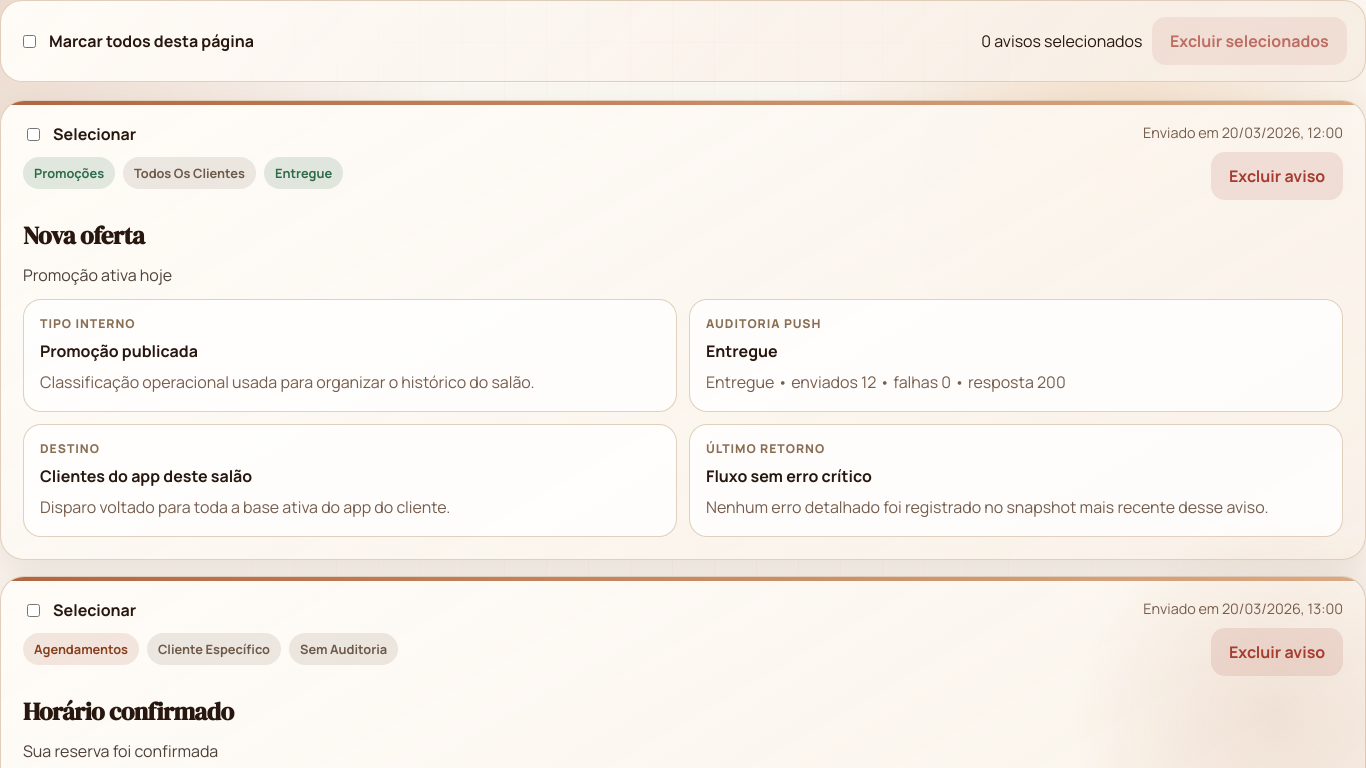
notifications list UI › allows selecting all items on the page and updates the bulk action state
Expected: the button "Excluir selecionados" is disabled, [1152,17,1347,65]
Expected: the text "0 avisos selecionados" is shown, [981,30,1142,52]
Click the checkbox labelled "Marcar todos desta página" at (30, 41), box [23,34,36,48]
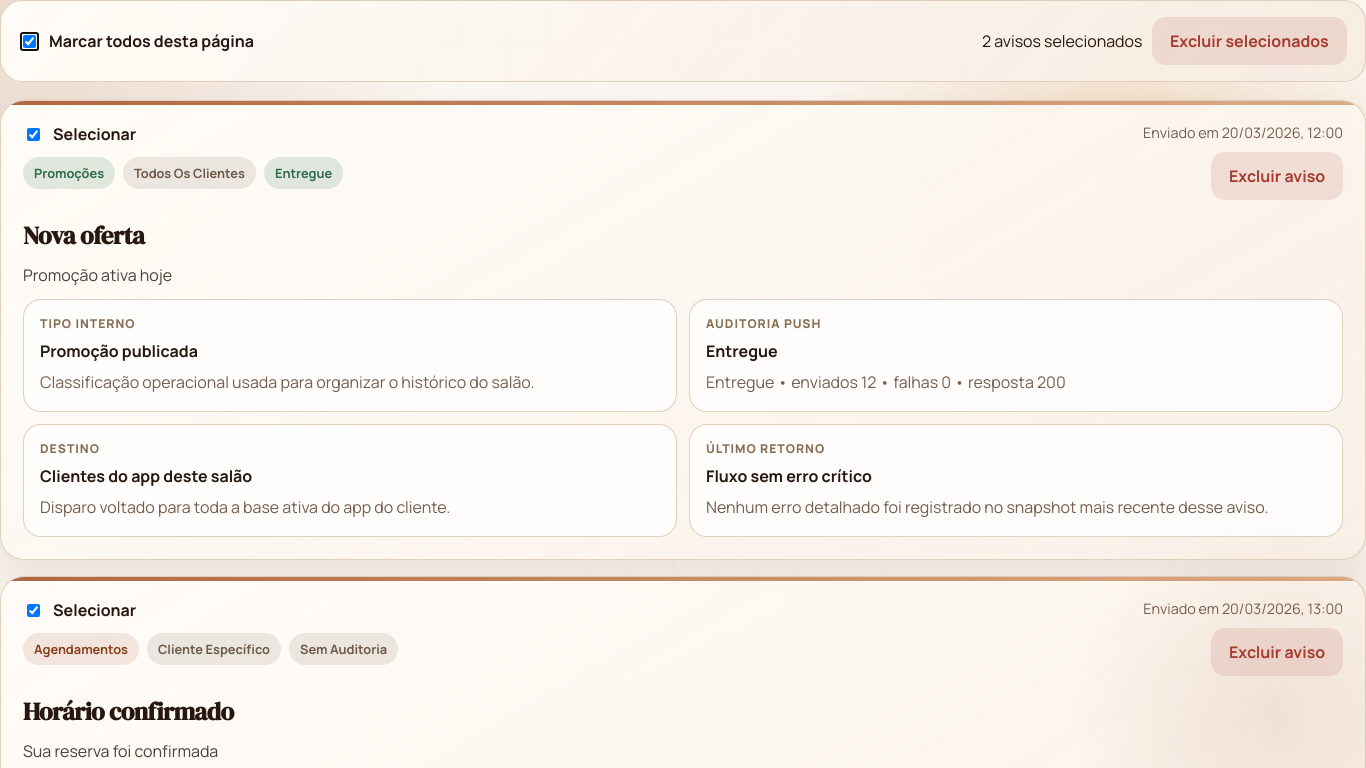
Expected: the button "Excluir selecionados" is enabled, [1152,17,1347,65]
Expected: the text "2 avisos selecionados" is shown, [982,30,1142,52]
Click the checkbox labelled "Selecionar" in the row of "20/03/2026, 12:00" at (34, 134), box [27,128,40,140]
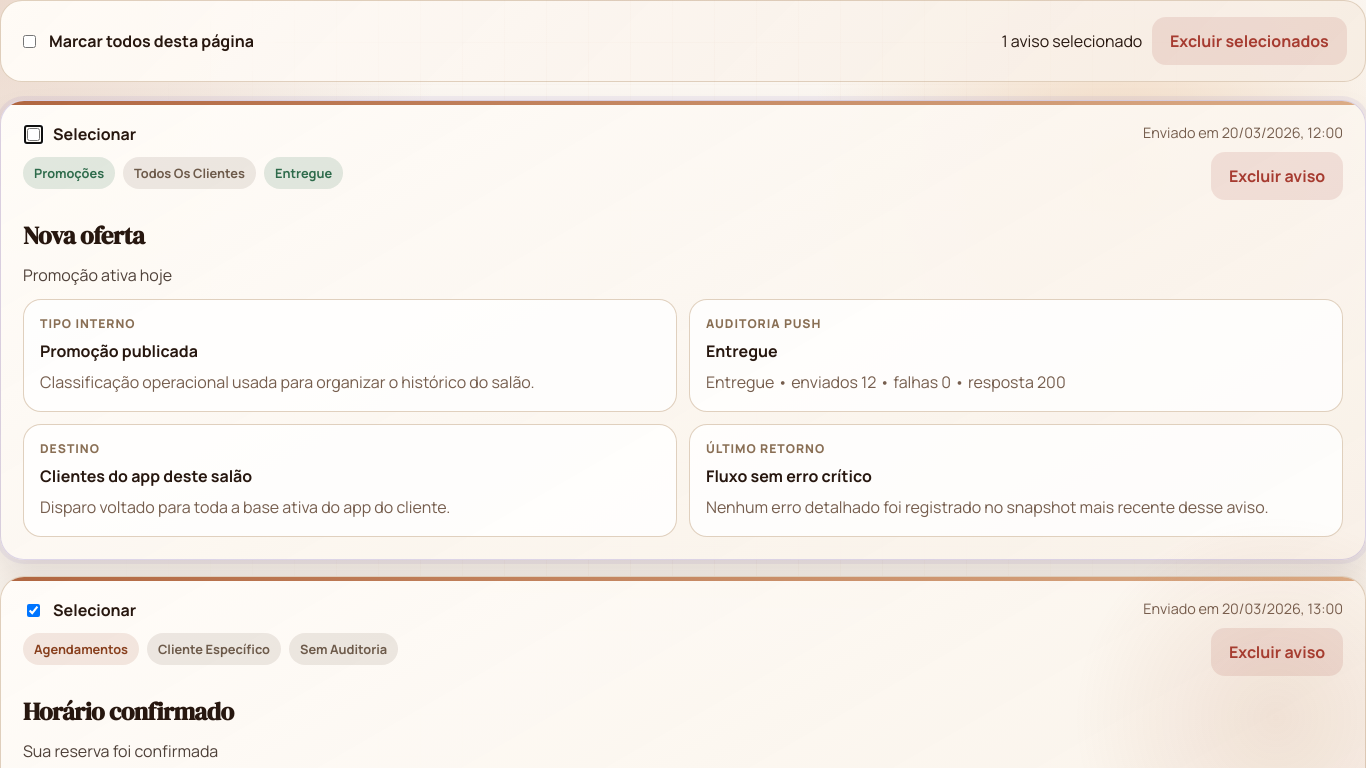
Expected: the text "1 aviso selecionado" is shown, [1001,30,1142,52]
